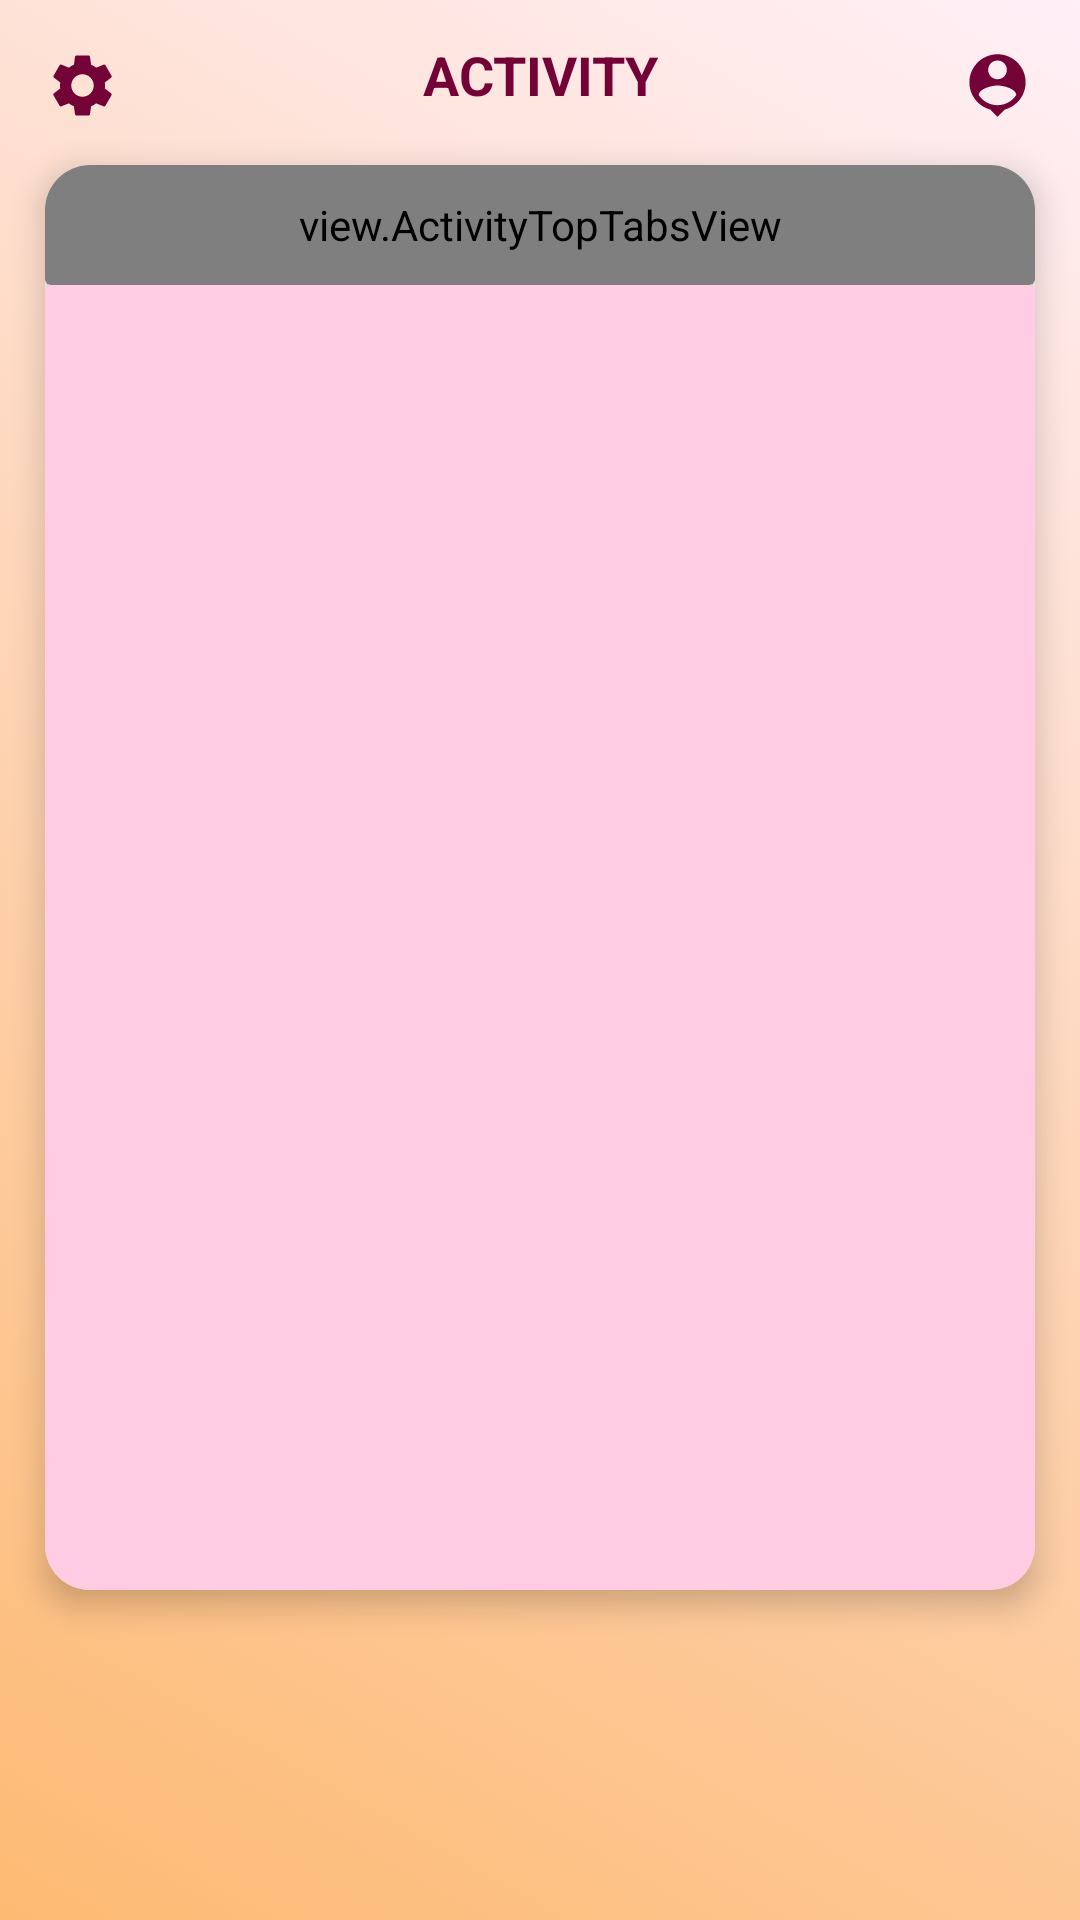

Named icons in this screenshot (1080 x 1920) and their centers, [x,y]:
person pin: [997,85]
settings: [82,85]
